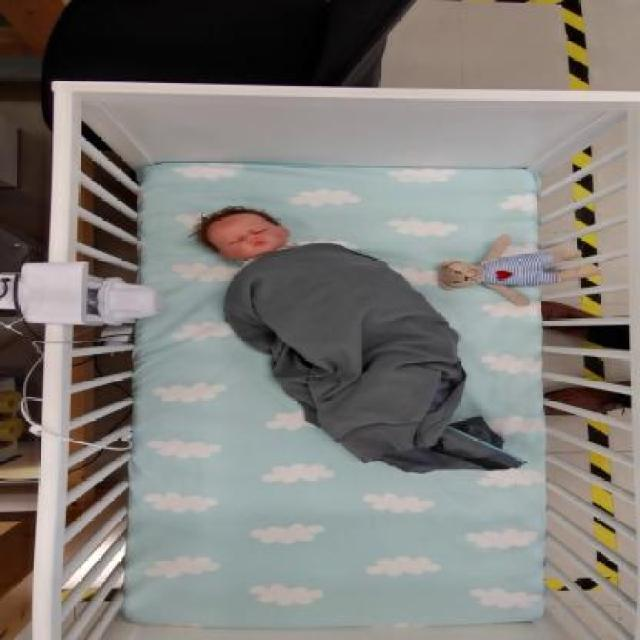baby: (193, 202, 522, 474)
